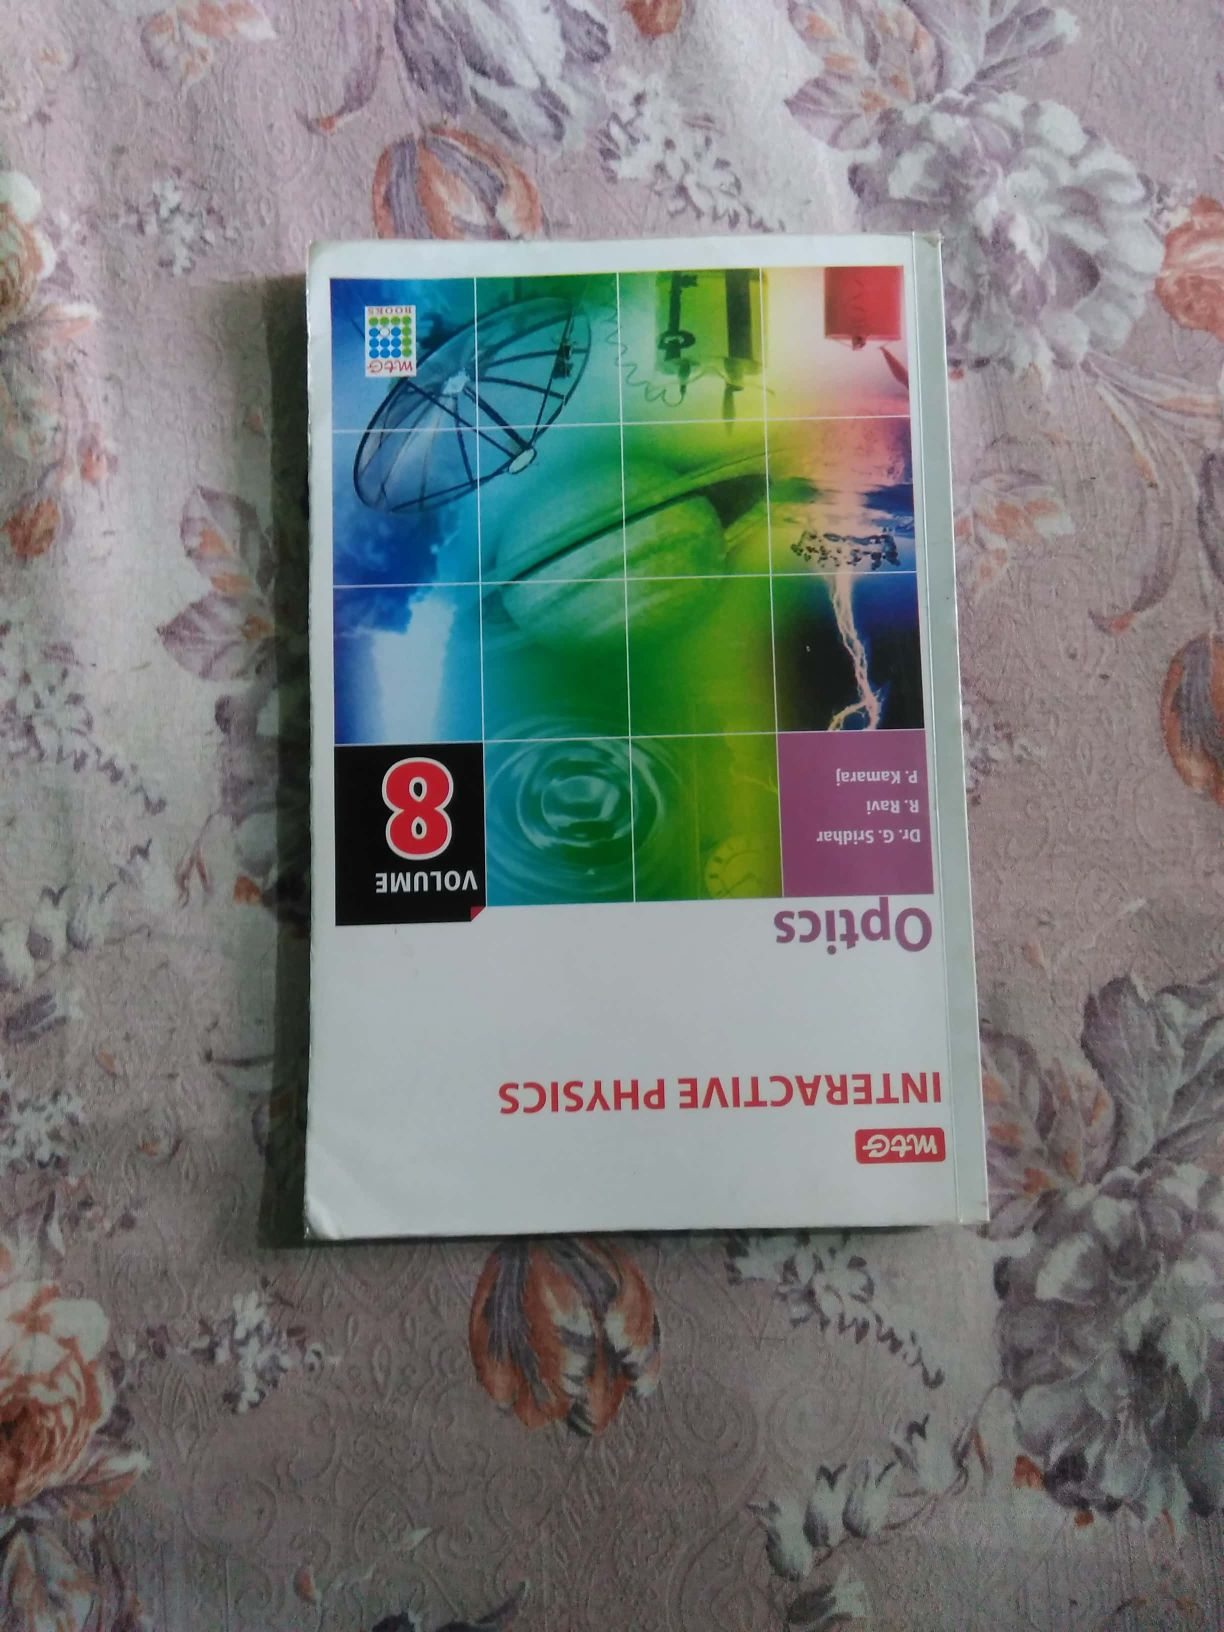optics: (219, 222, 1076, 1261)
